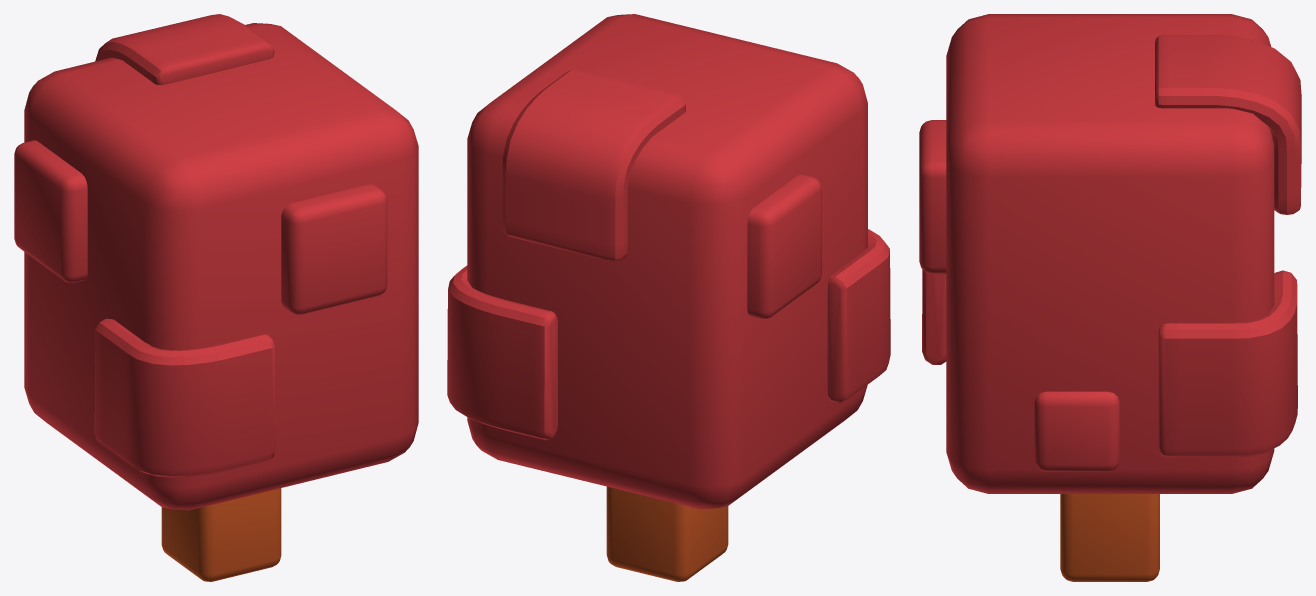
Rendered from tree_spring.fbx.
3 renders of one model, left to right at view 1: azimuth 30°, elevation 25°; view 2: azimuth 150°, elevation 25°; view 3: azimuth 270°, elevation 25°, orthographic. The views are drawn at different scales.
Visible parts, largest first — view 1: Cube.155; view 2: Cube.155; view 3: Cube.155.
Part boxes in pixels (<box>): Cube.155: <box>14,14,418,581</box>; Cube.155: <box>447,14,890,581</box>; Cube.155: <box>919,14,1301,581</box>.
Size of the model in its own units: 478 by 490 by 726.
